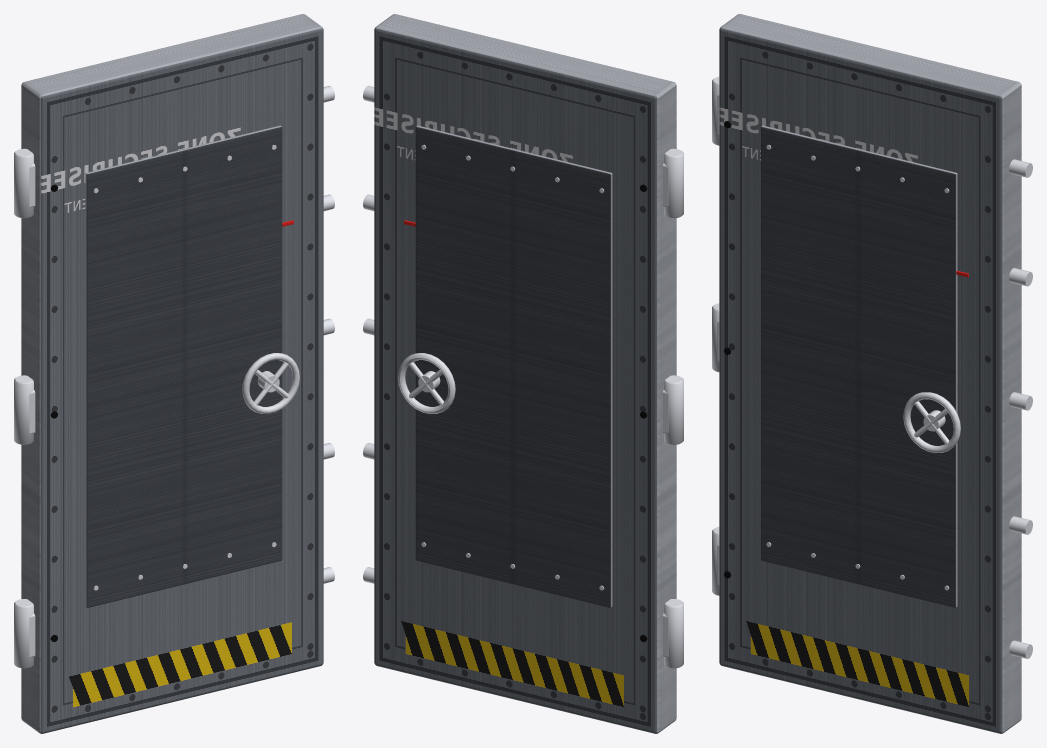
The model's file is BankSecurityDoor.obj.
3 renders of one model, left to right at view 1: azimuth 30°, elevation 25°; view 2: azimuth 150°, elevation 25°; view 3: azimuth 330°, elevation 25°, orthographic.
Bounding box in the file's own units: 1.06 × 2.06 × 0.238.
Materials: 6 (3 with a texture image).
